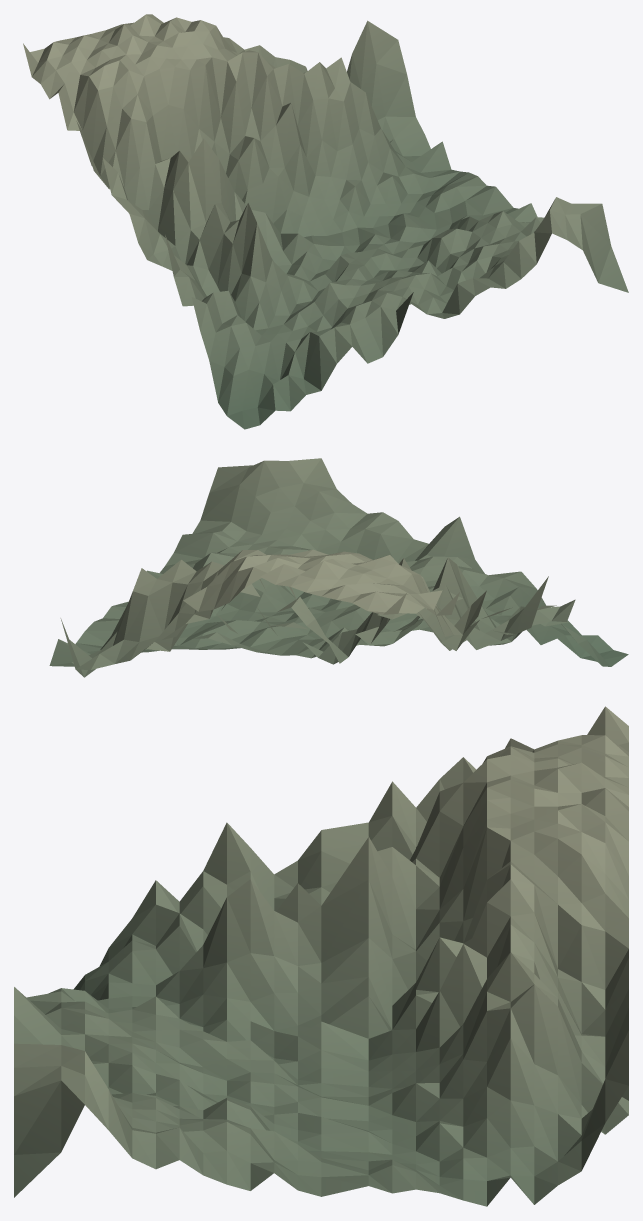
Rendered from tile_2_3.glb.
3 renders of one model, top to bottom at view 1: azimuth 30°, elevation 25°; view 2: azimuth 150°, elevation 25°; view 3: azimuth 270°, elevation 25°, orthographic. The views are drawn at different scales.
Visible parts, largest first — view 1: geometry_0; view 2: geometry_0; view 3: geometry_0.
Boxes of the visible parts, box(x1,y1,x2,y2) form: geometry_0: box(23, 14, 628, 429); geometry_0: box(49, 458, 628, 677); geometry_0: box(14, 706, 628, 1206).
Size of the model in its own units: 123 by 69.17 by 127.
